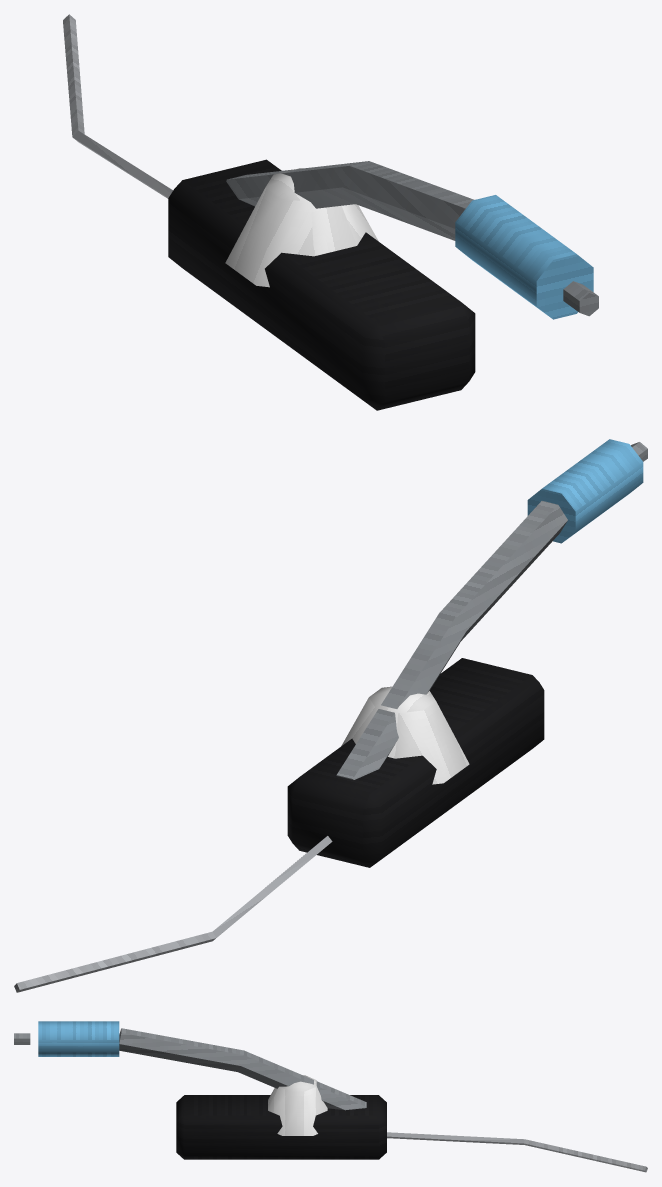
The model's file is freio_mao_n1.glb.
3 renders of one model, top to bottom at view 1: azimuth 30°, elevation 25°; view 2: azimuth 150°, elevation 25°; view 3: azimuth 270°, elevation 25°, orthographic. The views are drawn at different scales.
Visible parts, largest first — view 1: freio_mao_n1; view 2: freio_mao_n1; view 3: freio_mao_n1.
Part boxes in pixels (x1=…): freio_mao_n1: x1=63, y1=14, x2=598, y2=410; freio_mao_n1: x1=14, y1=439, x2=647, y2=992; freio_mao_n1: x1=14, y1=1021, x2=647, y2=1172.
Bounding box in the file's own units: 0.1297 × 0.1703 × 0.7819.
2 materials, 2 textured.
